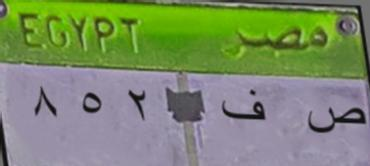2: (122, 77, 155, 132)
5: (74, 86, 107, 128)
8: (28, 85, 66, 128)
faa: (215, 86, 276, 134)
saad: (296, 96, 366, 144)
